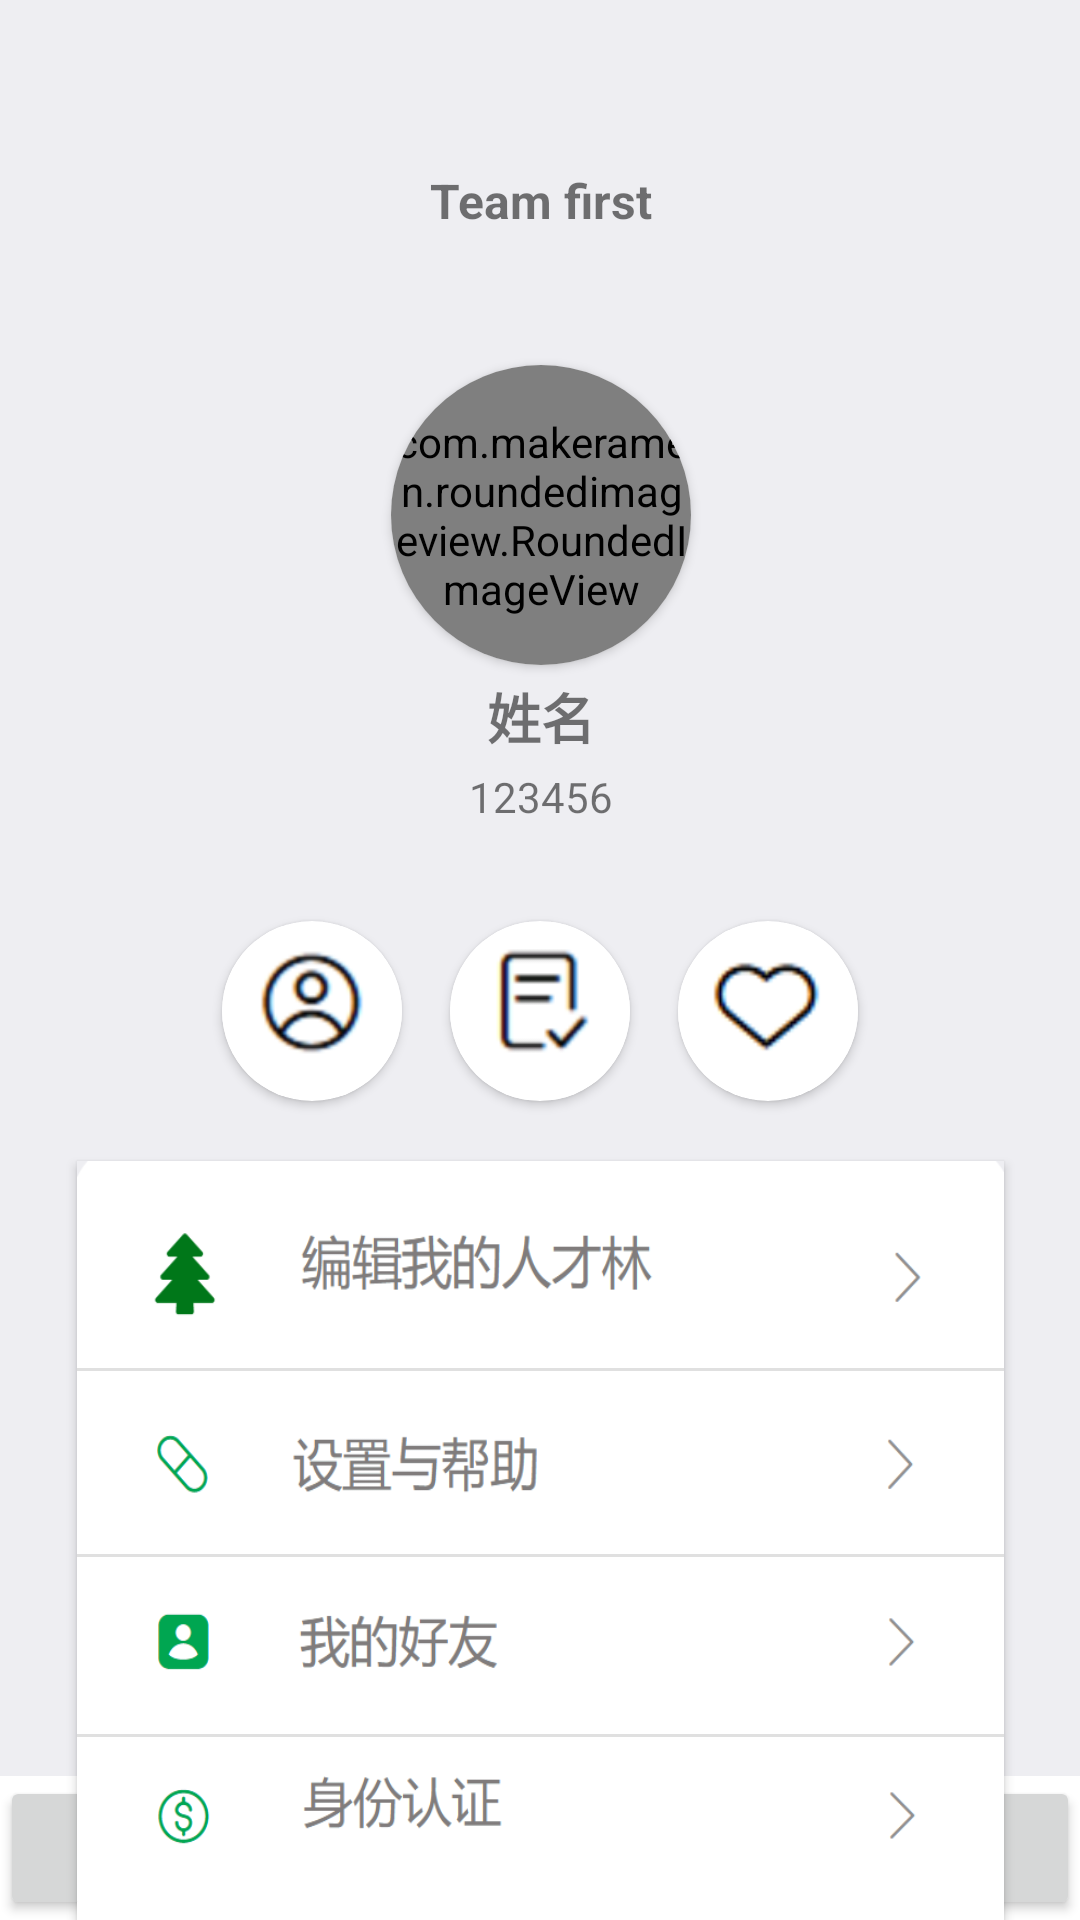

Where icons sit on this 1080px x 1920px app screen, as (x1, y1, x2, y2):
profile info: (222, 921, 402, 1101)
